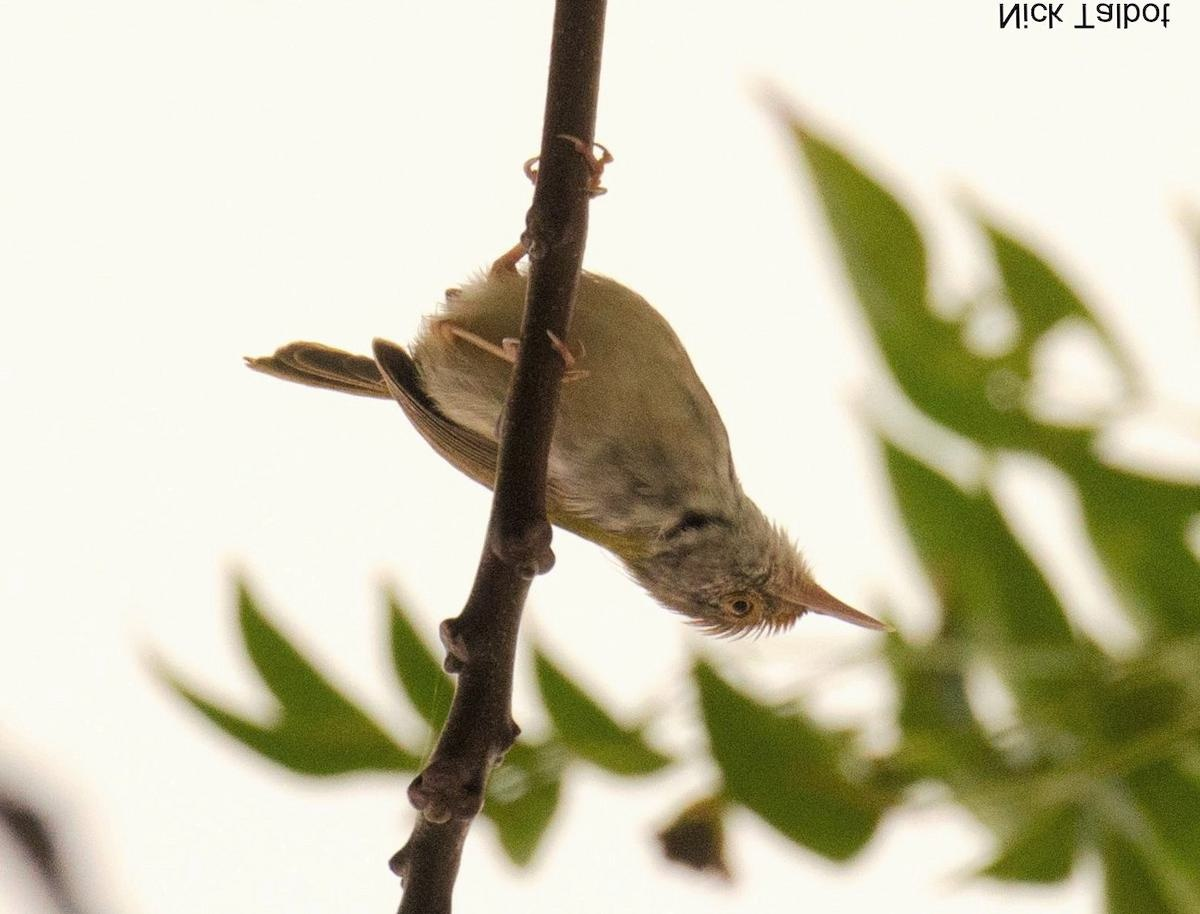tailorbird: (273, 157, 918, 735)
